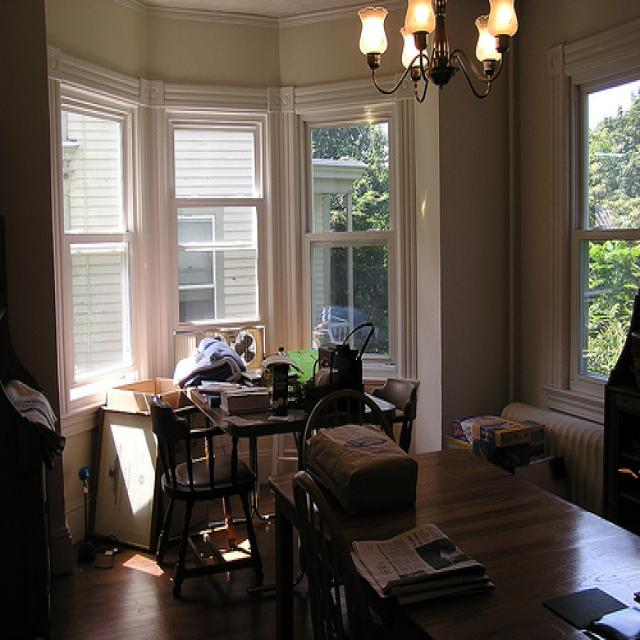chair: (150, 392, 268, 598), (292, 469, 372, 639), (299, 387, 397, 470), (370, 378, 420, 453)
diningtable: (267, 447, 640, 640), (178, 385, 398, 598)
